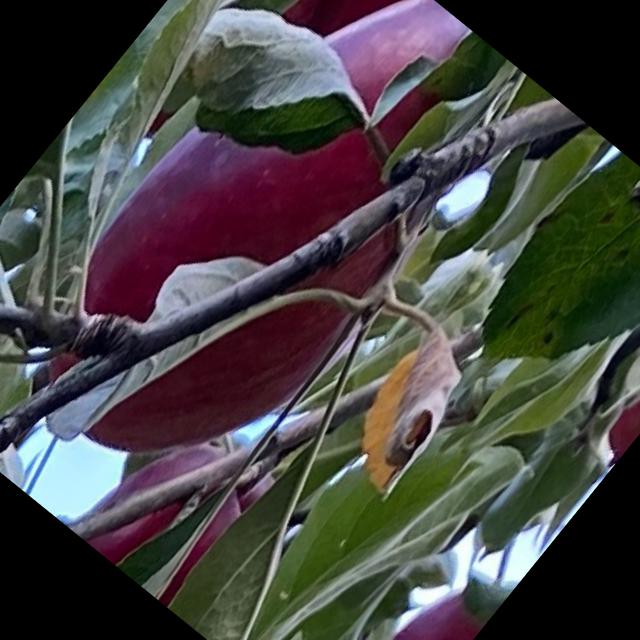Apples: (0, 0, 550, 528), (70, 397, 278, 610), (330, 572, 497, 639), (578, 284, 639, 460)
